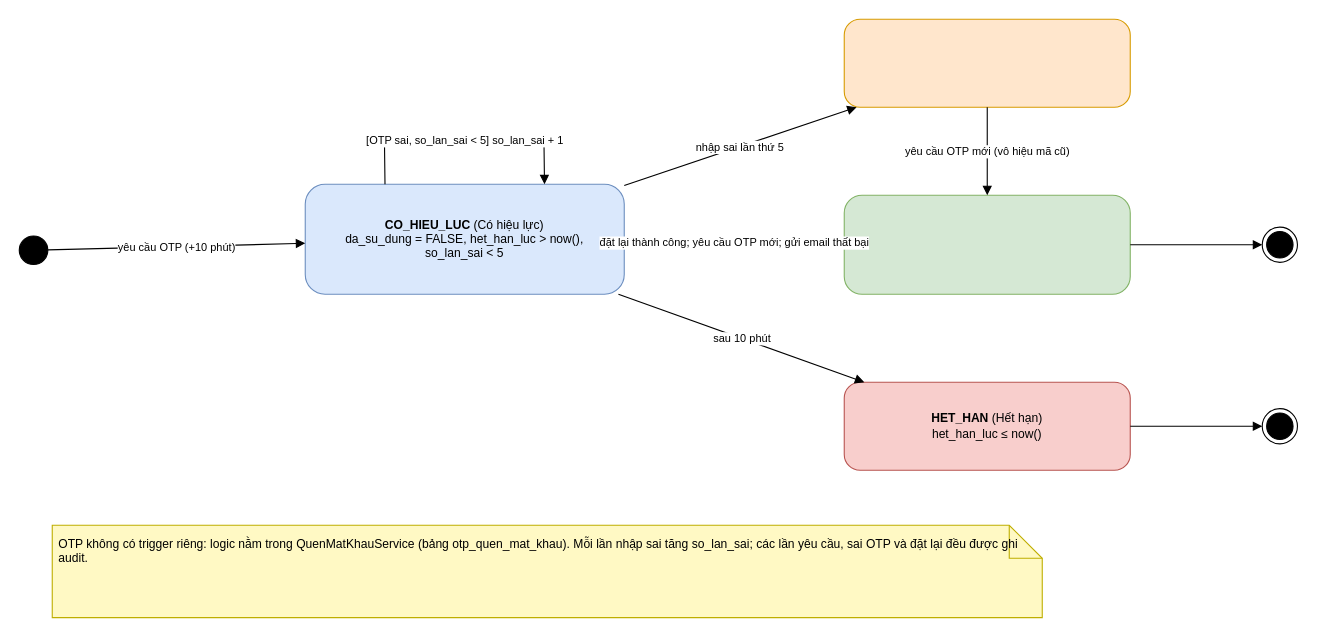
Image size: 1317x637. Some labels were removed from this diagram. Each missing label, with the centre of its shape:
"BI_KHOA (Bị khóa) so_lan_sai ≥ 5" belongs at point (986, 62).
"DA_DUNG_VO_HIEU (Đã dùng / vô hiệu) da_su_dung = TRUE" belongs at point (986, 244).
